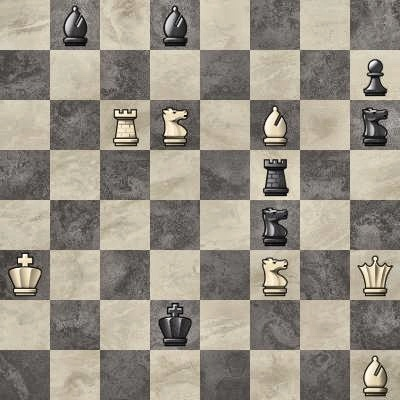black-bishop: (50, 0, 100, 50), (150, 0, 200, 50)
black-king: (150, 300, 200, 350)
black-knight: (350, 100, 400, 150), (250, 200, 300, 250)
black-pawn: (350, 50, 400, 100)
black-rook: (250, 150, 300, 200)
white-bishop: (250, 100, 300, 150), (350, 350, 400, 400)
white-king: (0, 250, 50, 300)
white-knight: (150, 100, 200, 150), (250, 250, 300, 300)
white-queen: (350, 250, 400, 300)
white-rook: (100, 100, 150, 150)
